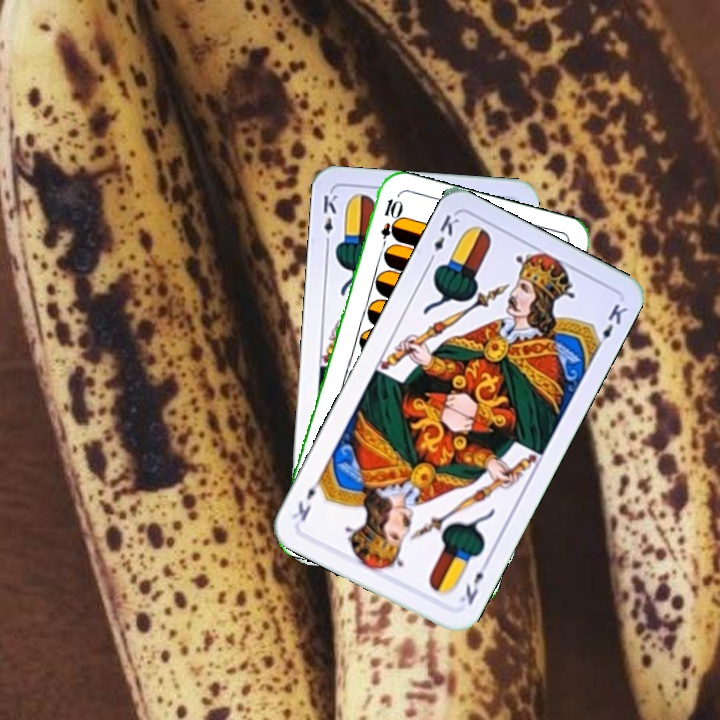E10: (376, 194, 403, 254)
EK: (424, 210, 462, 267), (456, 556, 492, 608), (319, 191, 341, 249)
